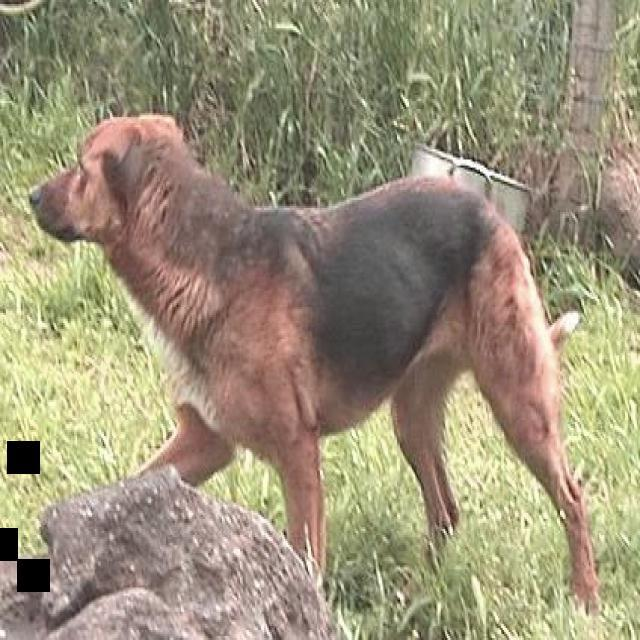adult_dog: (27, 110, 602, 623)
